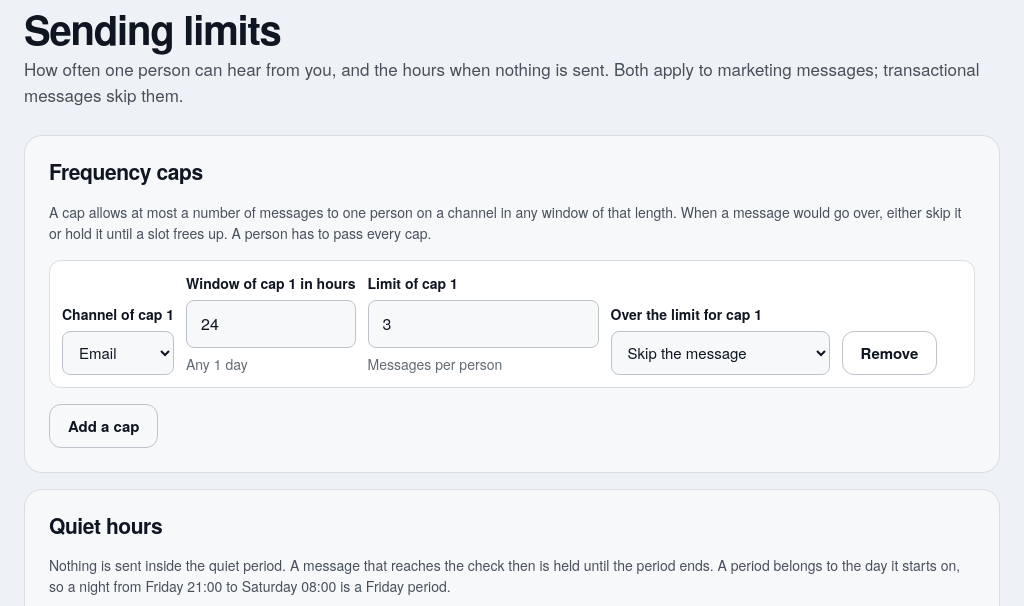
Test: sending limits › replaces the whole document with the edited caps and quiet hours
Replace the text in the number field labelled "Window of cap 1 in hours" with "12". click: (271, 324)
box: [186,300,356,348]
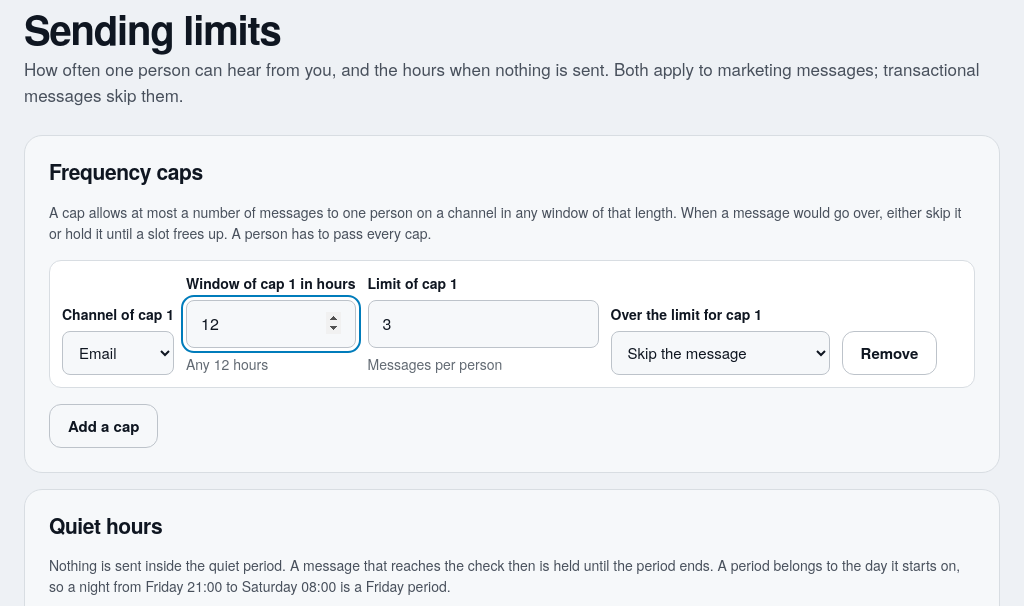
Select "Hold it until a slot frees up" in the dropdown labelled "Over the limit for cap 1". click: (720, 353)
box: [610,331,830,375]
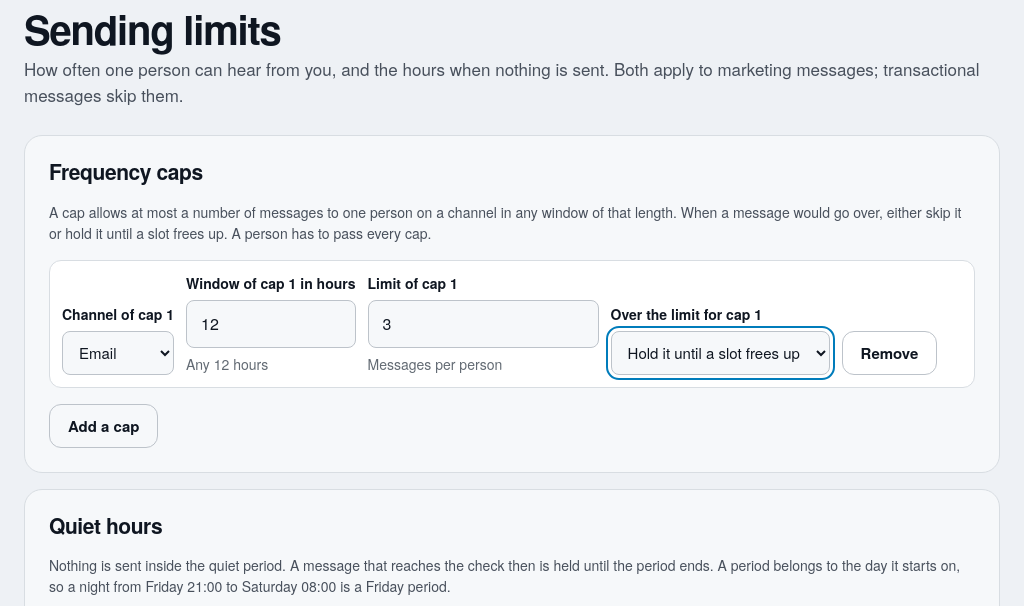
Click the button "Add a cap". click: (104, 426)
box: [49,404,158,448]
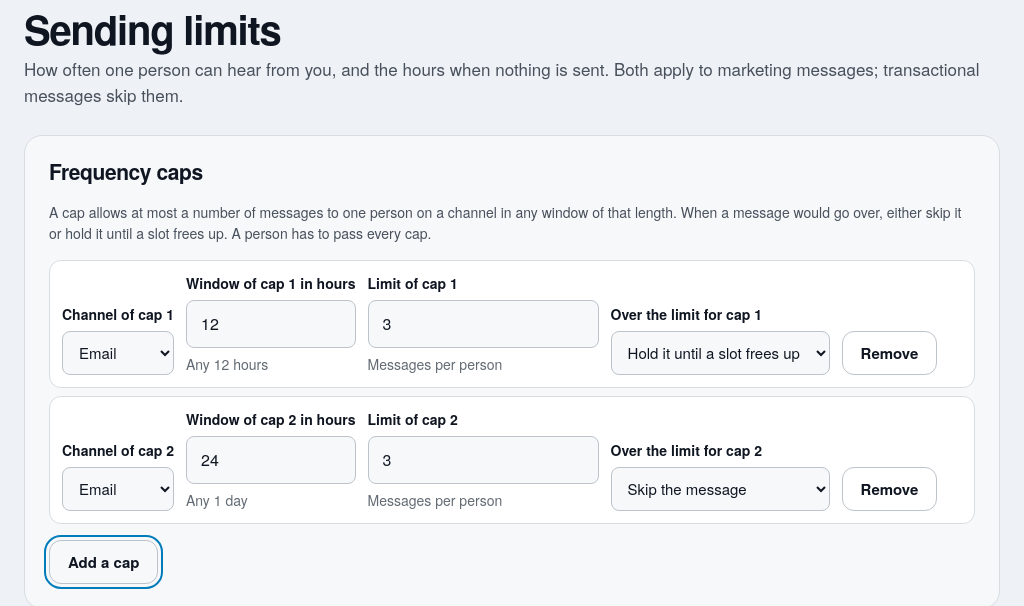
Replace the text in the number field labelled "Limit of cap 2" with "10". click: (483, 460)
box: [368,436,598,484]
(page scrolled)
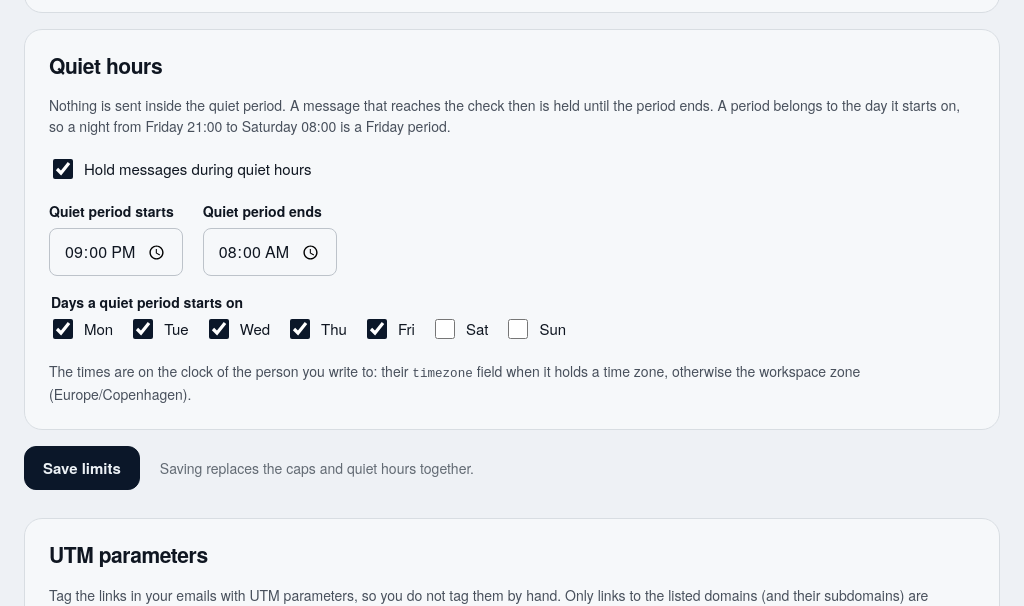
Click the checkbox labelled "Fri". click: (377, 329)
box: [367,319,387,339]
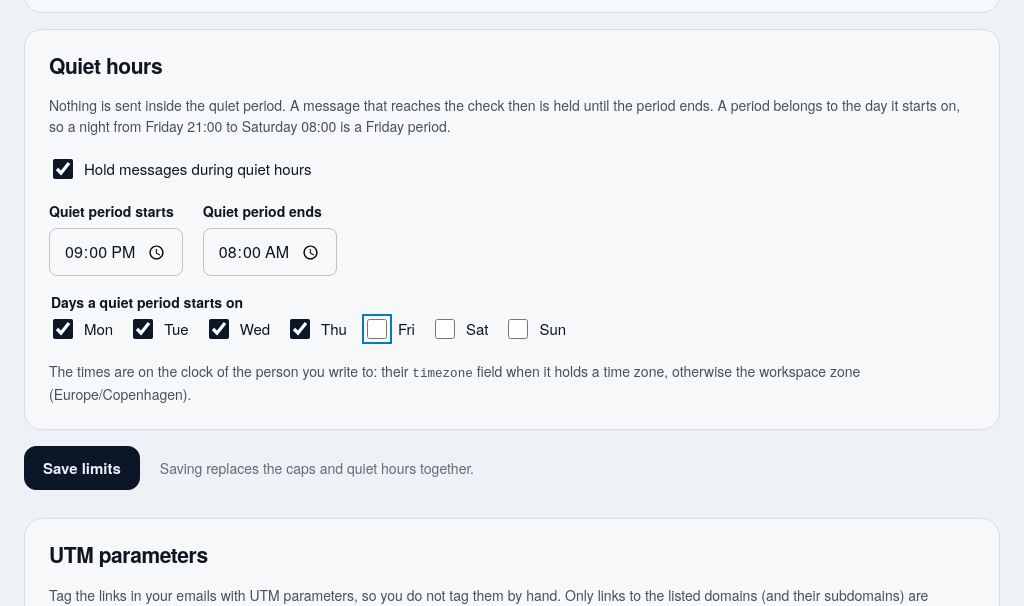
Click the button "Save limits". click: (82, 468)
box: [24,446,140,490]
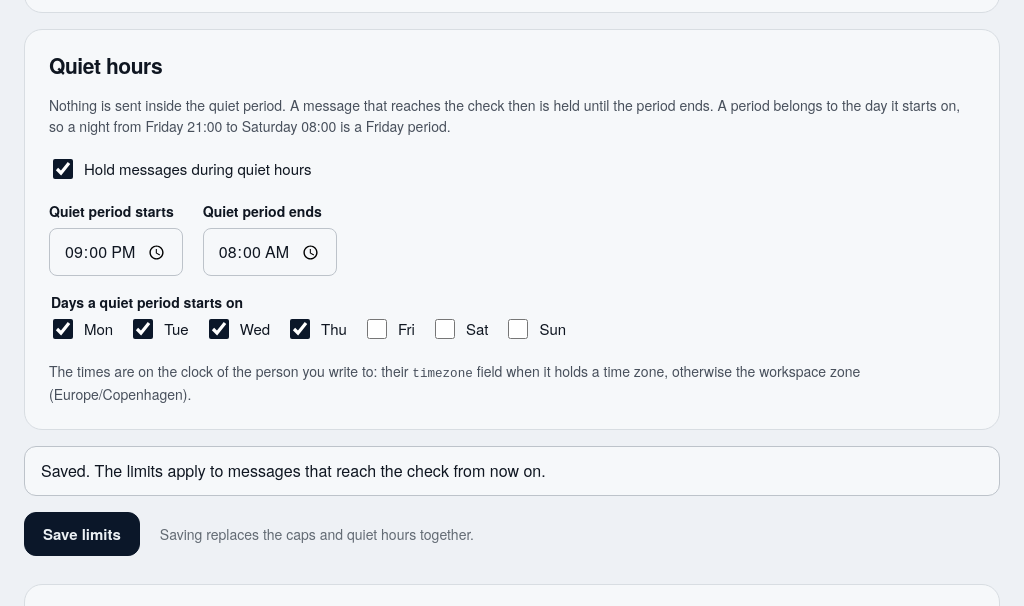
Expected: the text "Saved. The limits apply to messages that reach the check from now on." is shown, [24,446,1000,496]
